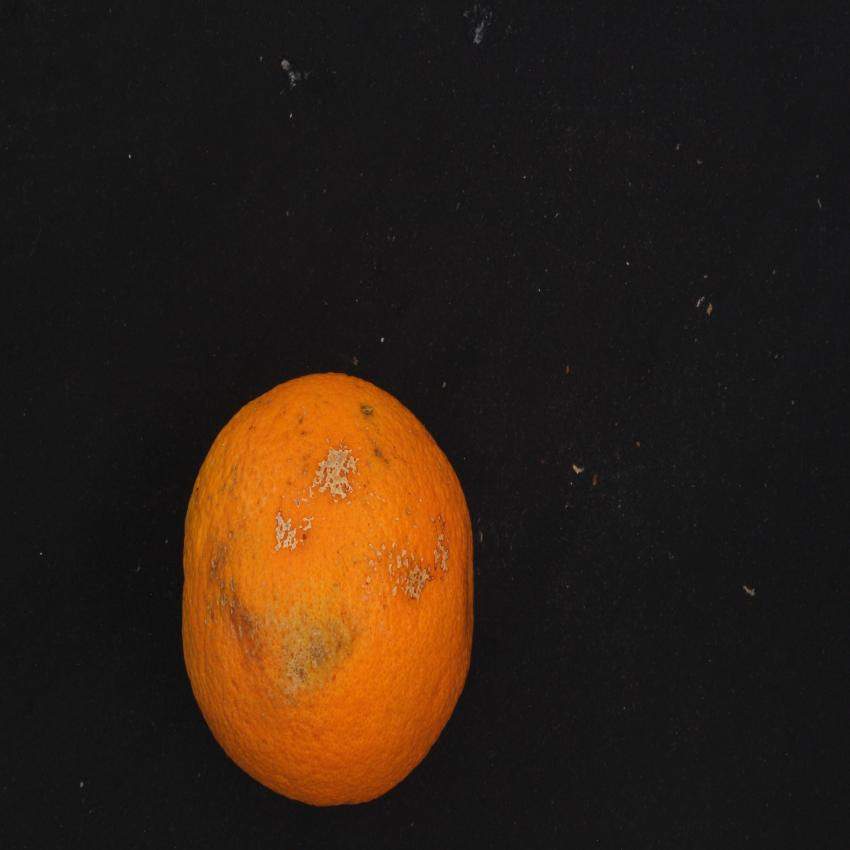Mal estado: (170, 366, 512, 818)
